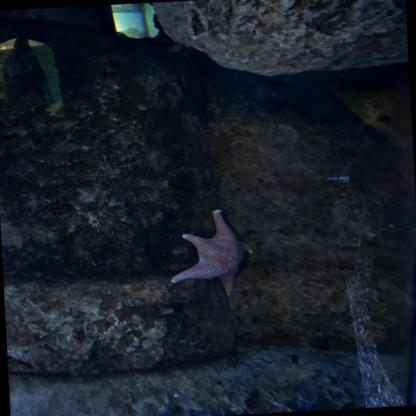starfish: (166, 208, 256, 298)
